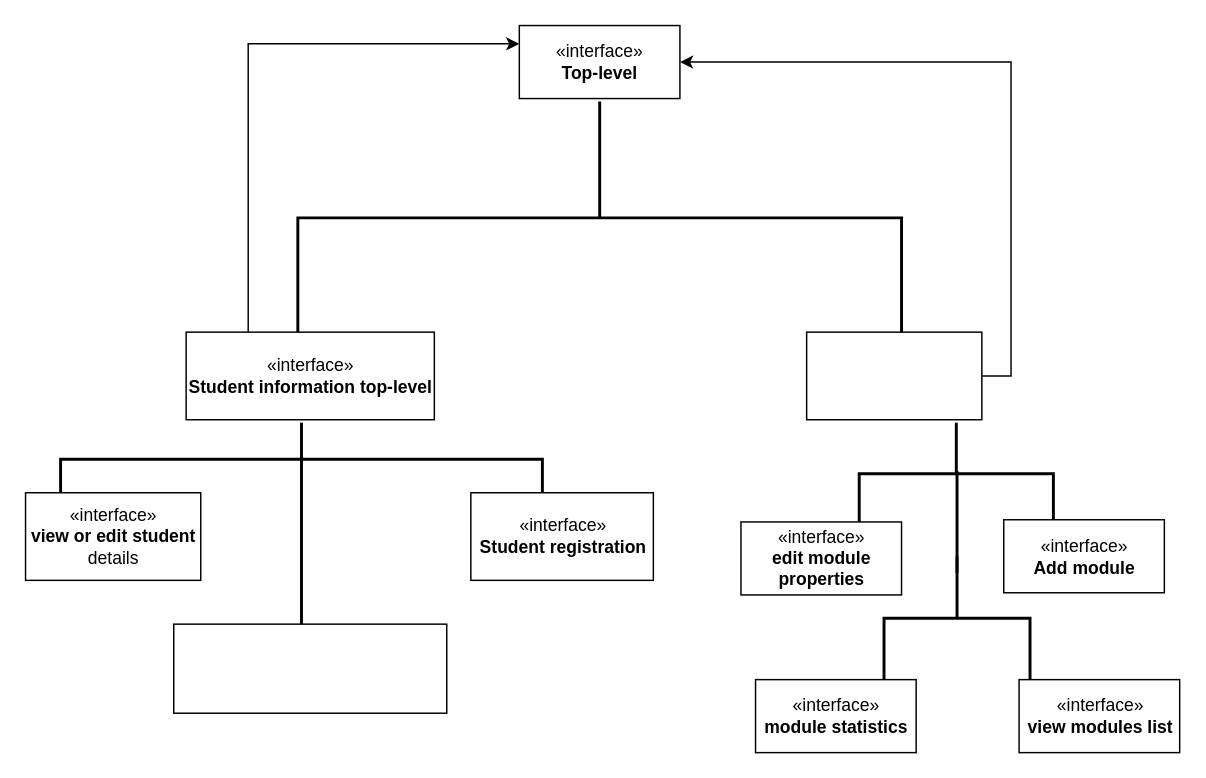
The diagram is 1206 pixels wide and 778 high, and some of its shapes have lost their labels. Each missing label, with the centre of its shape:
«interface» Modules: point (893, 375)
«interface» view or edit student module info and grades: point (309, 668)
